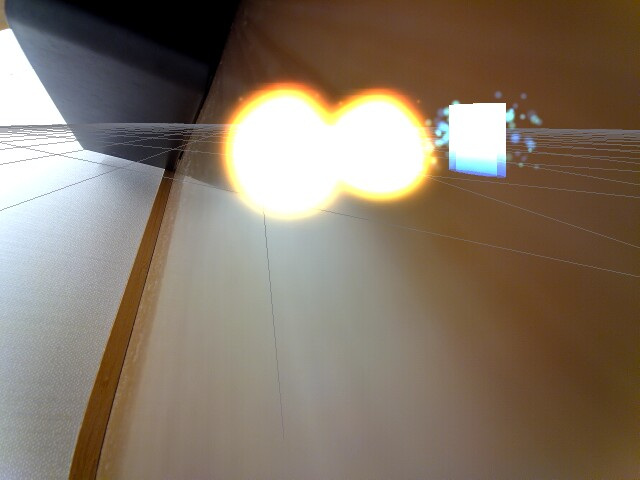firebig: (204, 47, 340, 230)
